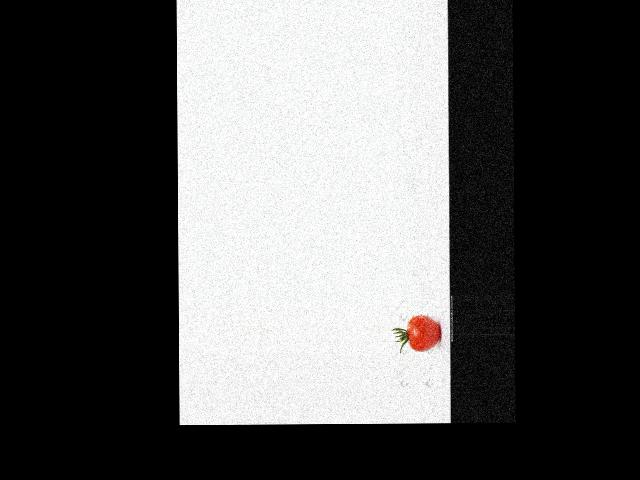tomato: (408, 315, 440, 352)
